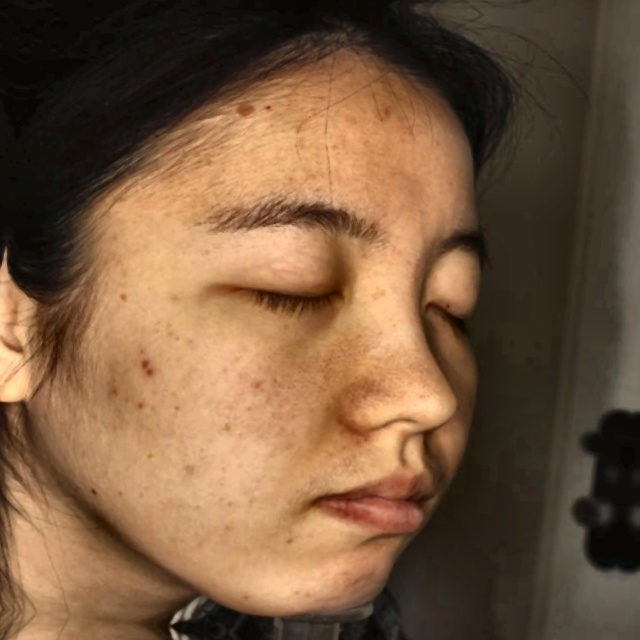comedone: (131, 355, 159, 381)
